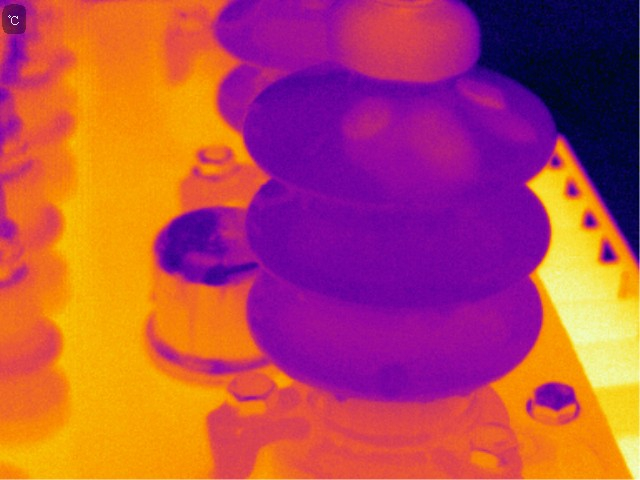Oil: (331, 1, 458, 84), (401, 107, 475, 179), (338, 95, 390, 142), (454, 76, 509, 111), (332, 387, 351, 404)
